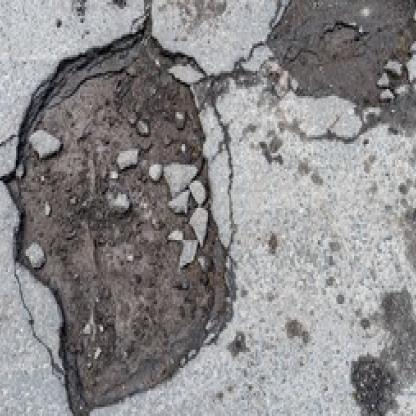pothole: (3, 30, 237, 416), (267, 0, 416, 105)
